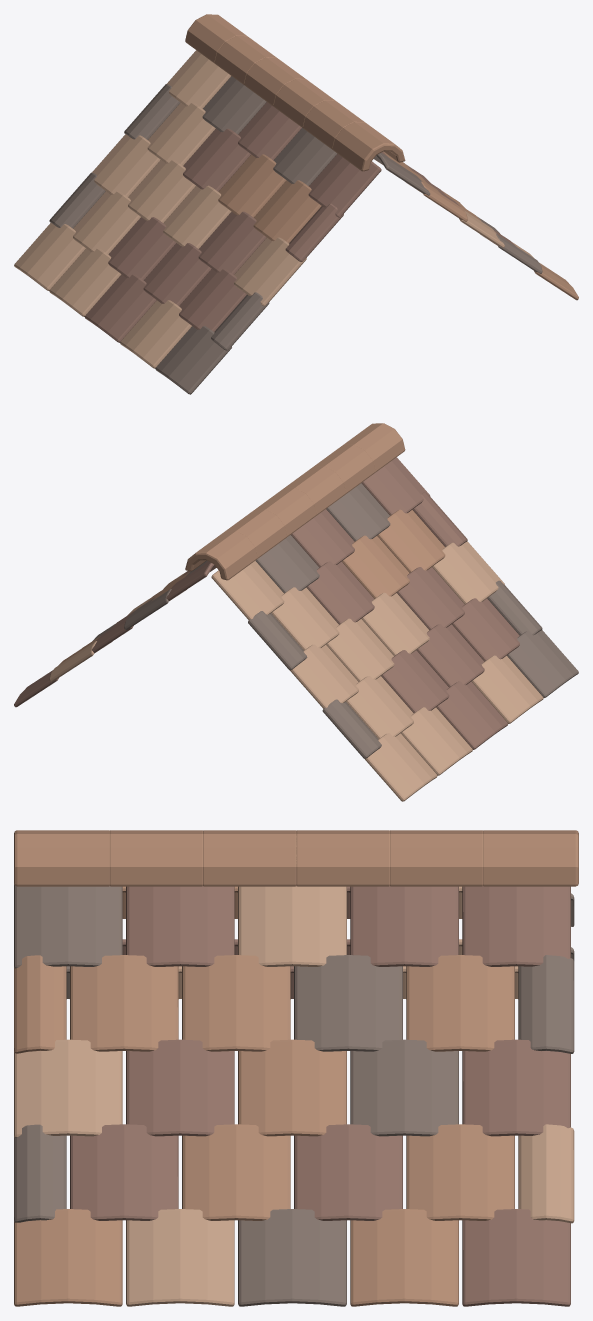
File: roof_gable_2x2m__finish.glb
3 renders of one model, top to bottom at view 1: azimuth 30°, elevation 25°; view 2: azimuth 150°, elevation 25°; view 3: azimuth 270°, elevation 25°, orthographic. The views are drawn at different scales.
Visible parts, largest first — view 1: roof_gable_2x2m__finish__mesh_00; view 2: roof_gable_2x2m__finish__mesh_00; view 3: roof_gable_2x2m__finish__mesh_00.
Part boxes in pixels (x1,y1,x2,y2): roof_gable_2x2m__finish__mesh_00: (14, 14, 578, 394); roof_gable_2x2m__finish__mesh_00: (14, 423, 578, 801); roof_gable_2x2m__finish__mesh_00: (14, 830, 578, 1306).
Size of the model in its own units: 2.6 by 1.27 by 2.02.
